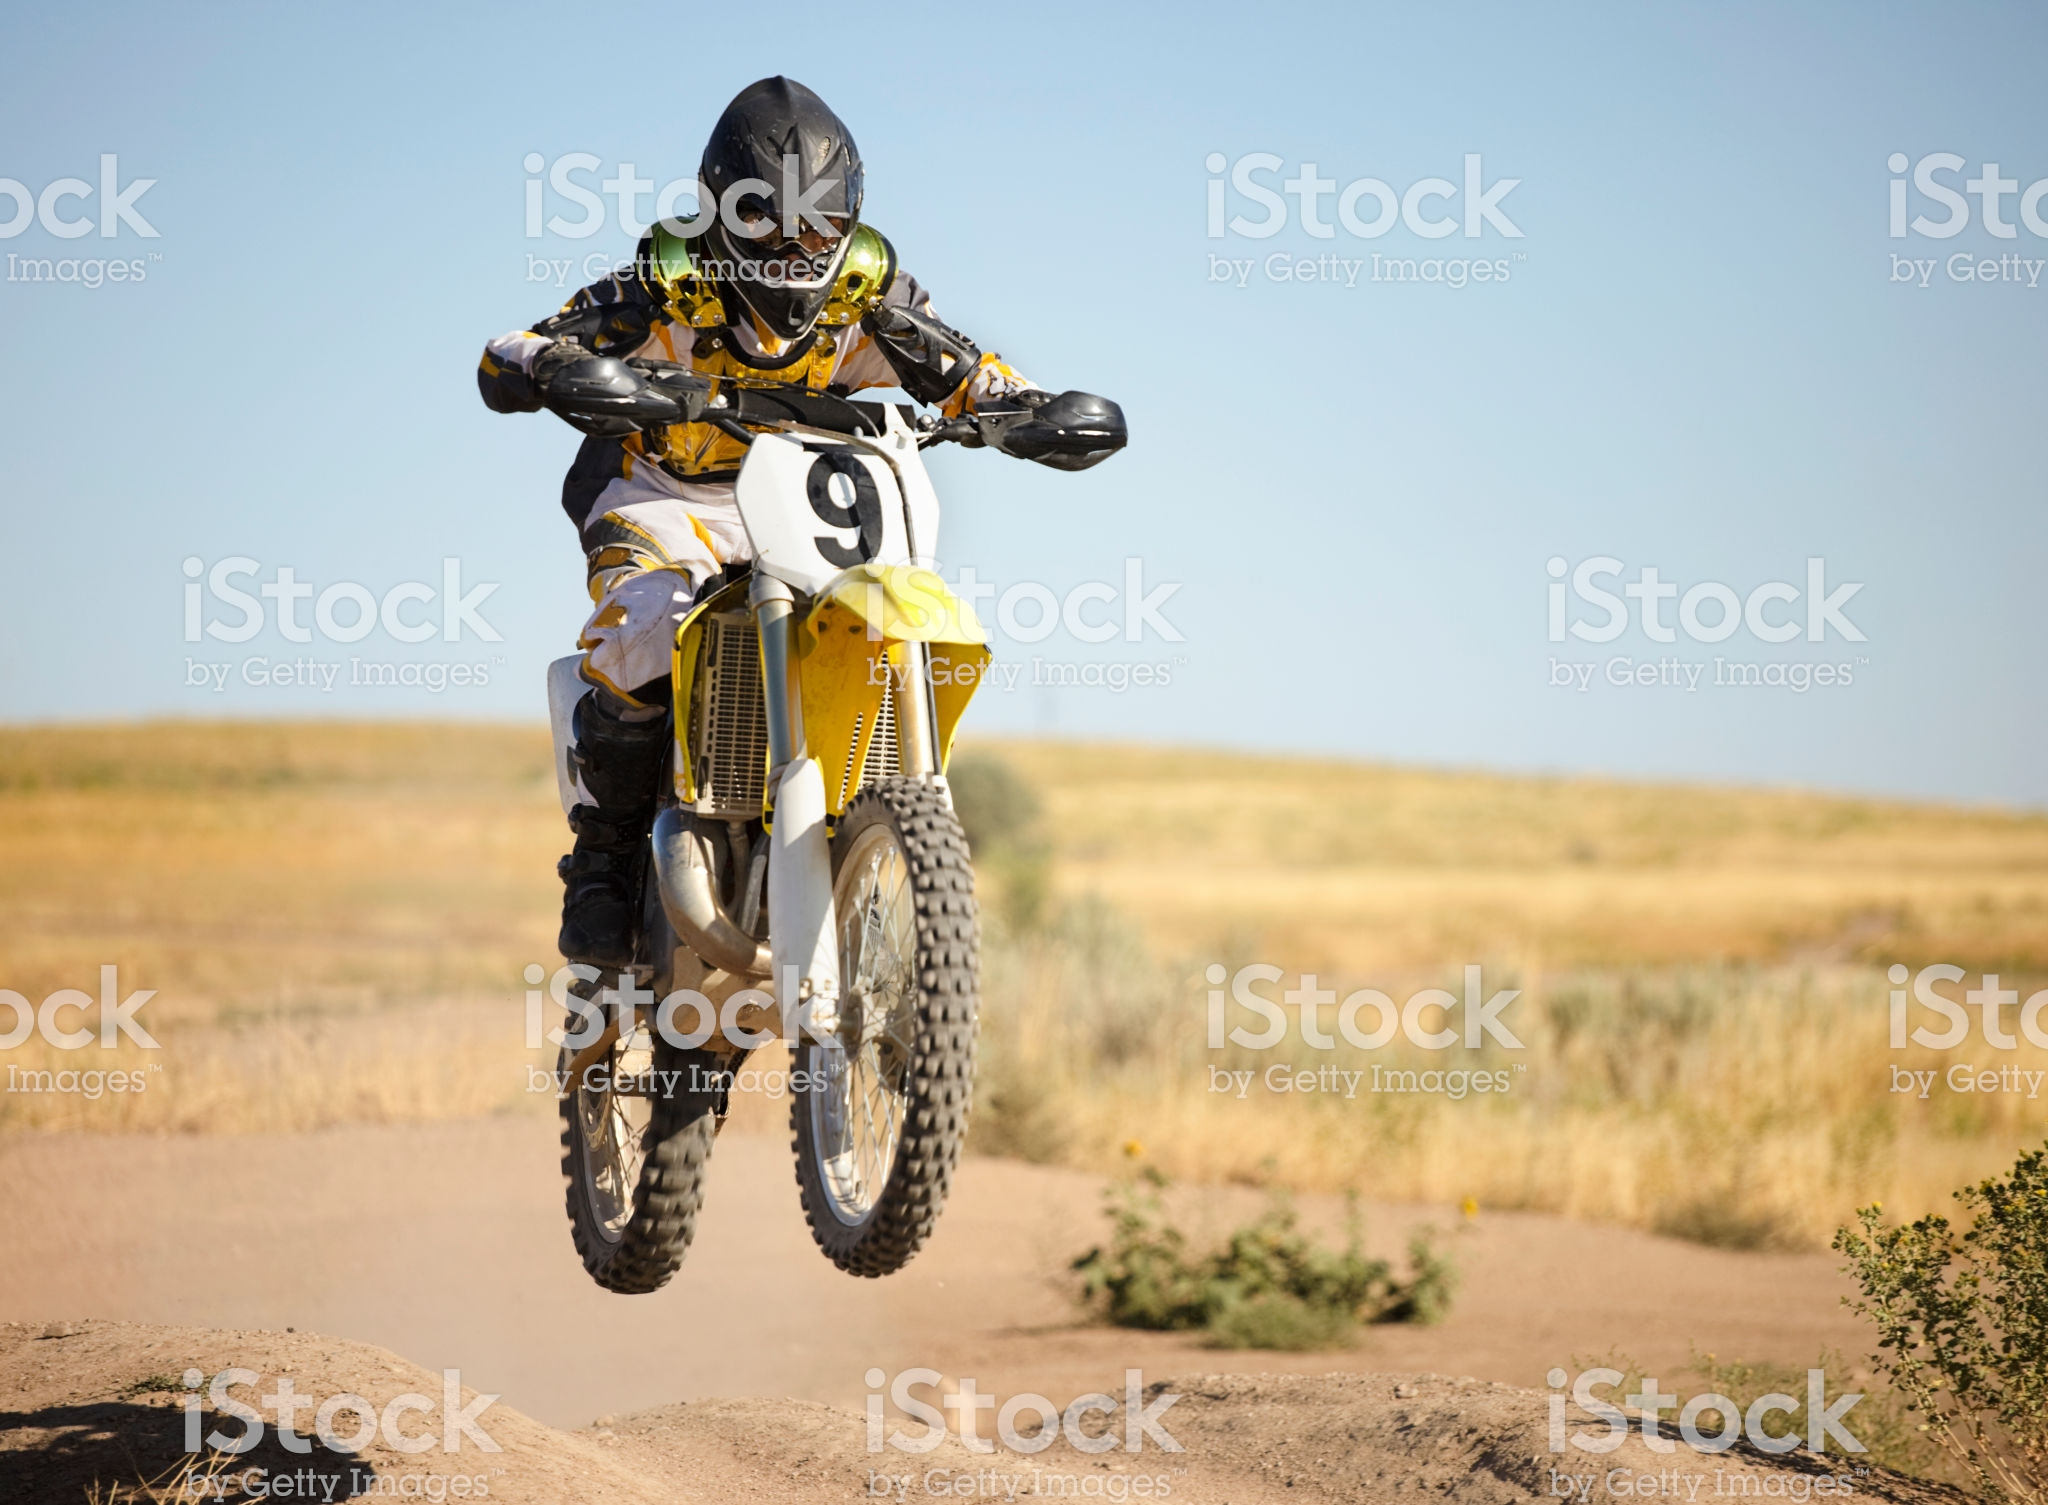helmet: (688, 72, 886, 342)
